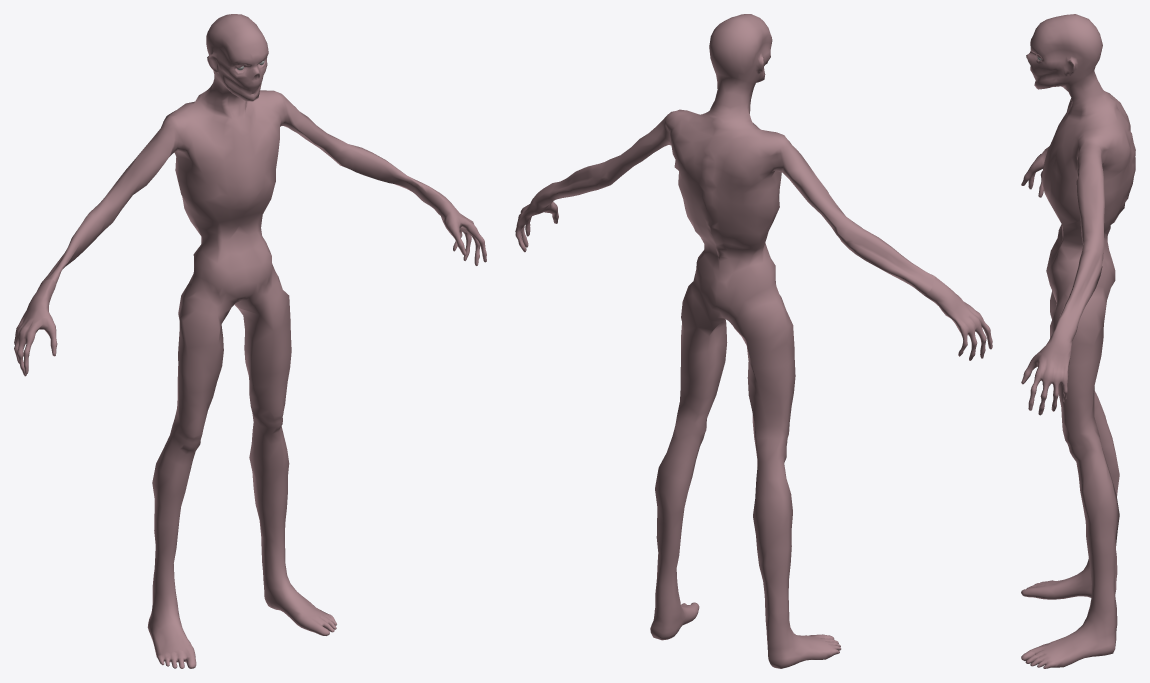
File: Hunter_low.fbx
3 views of the same model, side by side, from view 1: azimuth 30°, elevation 25°; view 2: azimuth 150°, elevation 25°; view 3: azimuth 270°, elevation 25° (orthographic). The views are drawn at different scales.
Parts seen in each view (by area): view 1: polySurface1; view 2: polySurface1; view 3: polySurface1.
Boxes of the visible parts, x1=… form: polySurface1: x1=14, y1=14, x2=486, y2=668; polySurface1: x1=515, y1=14, x2=992, y2=668; polySurface1: x1=1021, y1=14, x2=1135, y2=668.
Bounding box in the file's own units: 219 × 280 × 47.62.
